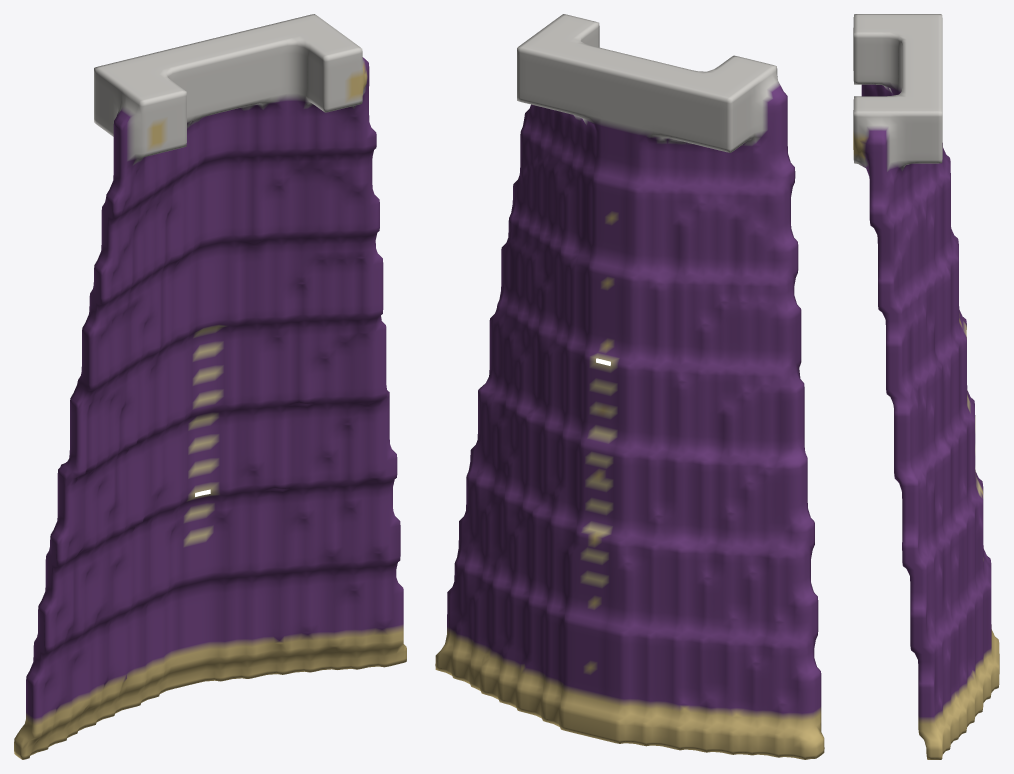
Rendered from plate_legendary_cloak.glb.
3 views of the same model, side by side, from view 1: azimuth 30°, elevation 25°; view 2: azimuth 150°, elevation 25°; view 3: azimuth 270°, elevation 25° (orthographic). The views are drawn at different scales.
Parts seen in each view (by area): view 1: plate_legendary_cloak; view 2: plate_legendary_cloak; view 3: plate_legendary_cloak.
Part boxes in pixels (left/top/right/bottom): plate_legendary_cloak: left=14, top=14, right=406, bottom=759; plate_legendary_cloak: left=435, top=14, right=824, bottom=759; plate_legendary_cloak: left=853, top=14, right=999, bottom=759.
Bounding box in the file's own units: 0.6119 × 0.996 × 0.216.
